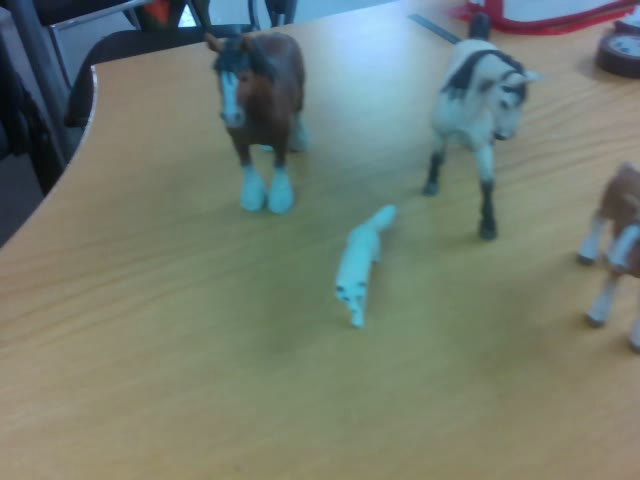toy: (425, 13, 539, 240), (204, 31, 305, 213), (334, 206, 397, 328)
